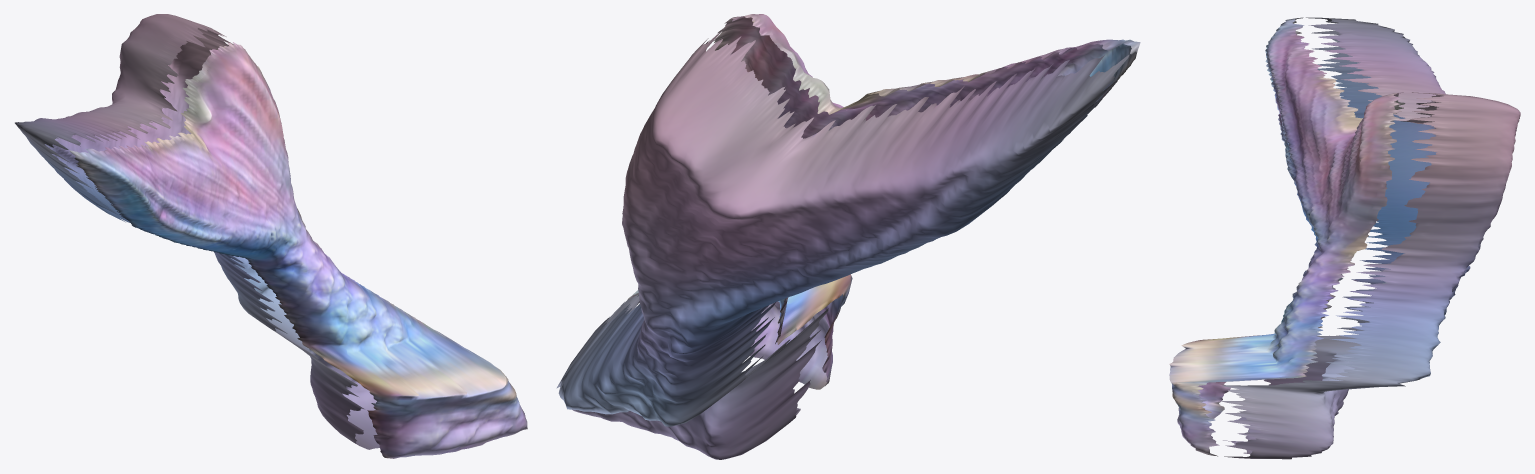
Rendered from 12-mermaid-tail.glb.
The picture shows the model from 3 angles, left to right: view 1: azimuth 30°, elevation 25°; view 2: azimuth 150°, elevation 25°; view 3: azimuth 270°, elevation 25°; orthographic projection. The views are drawn at different scales.
Bounding box in the file's own units: 0.5137 × 0.439 × 0.4634.
Materials: 1 (1 with a texture image).
